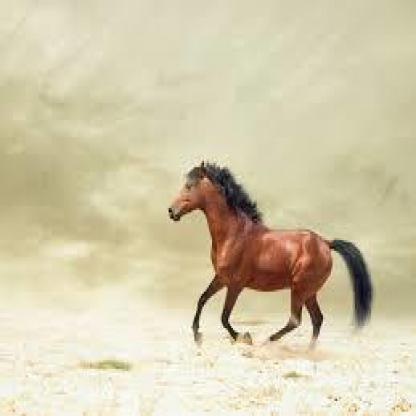horse: (167, 156, 373, 354)
